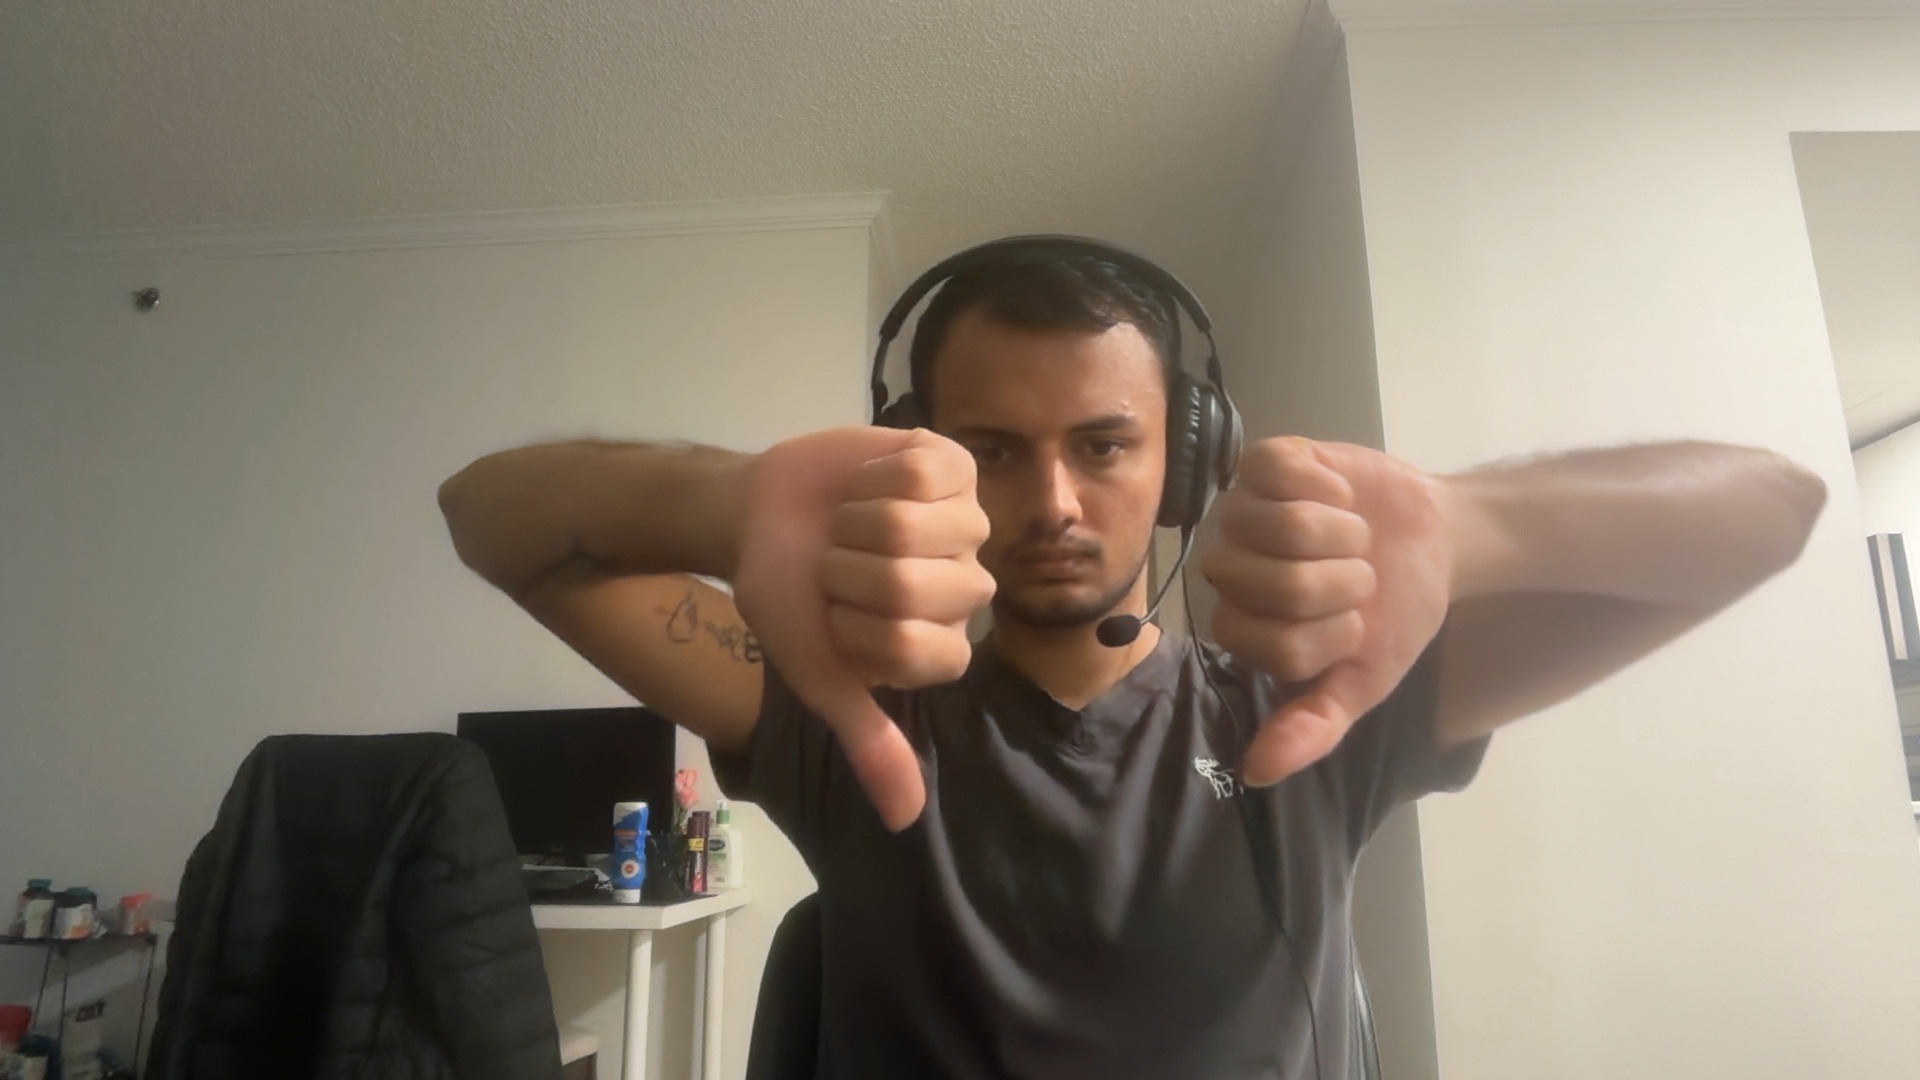thumbsdown: (732, 425, 996, 835)
